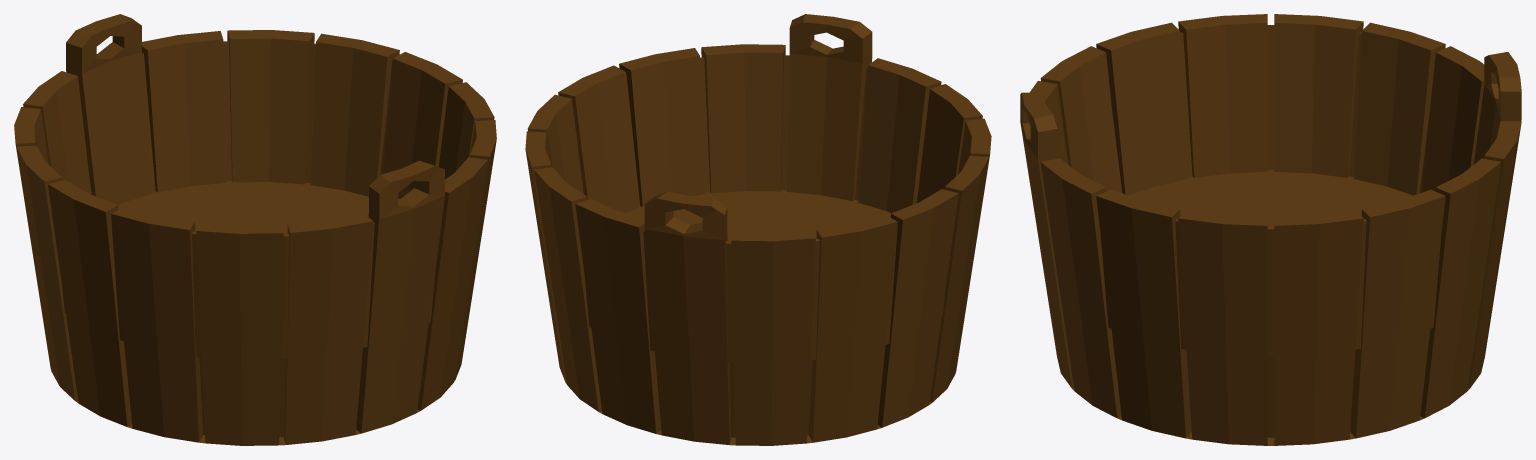
Rendered from Bucket_Empty.fbx.
The picture shows the model from 3 angles, left to right: view 1: azimuth 30°, elevation 25°; view 2: azimuth 150°, elevation 25°; view 3: azimuth 270°, elevation 25°; orthographic projection. The views are drawn at different scales.
Parts seen in each view (by area): view 1: bucket.001; view 2: bucket.001; view 3: bucket.001.
Part boxes in pixels (<box>): bucket.001: <box>14,14,496,445</box>; bucket.001: <box>525,14,991,445</box>; bucket.001: <box>1020,14,1521,445</box>.
Size of the model in its own units: 98.74 by 58.77 by 98.74.
